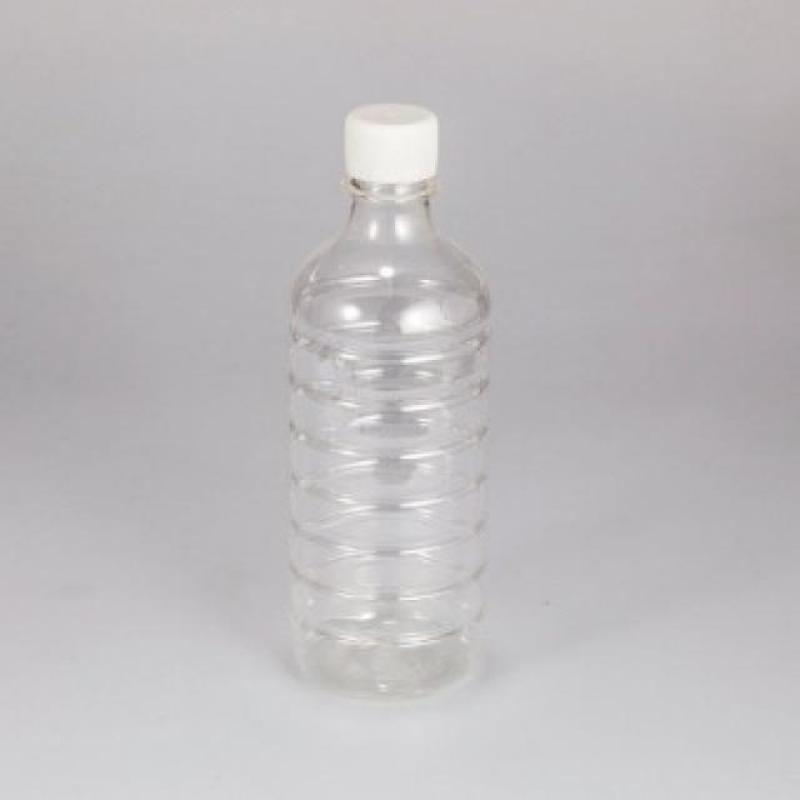botella: (278, 101, 494, 695)
